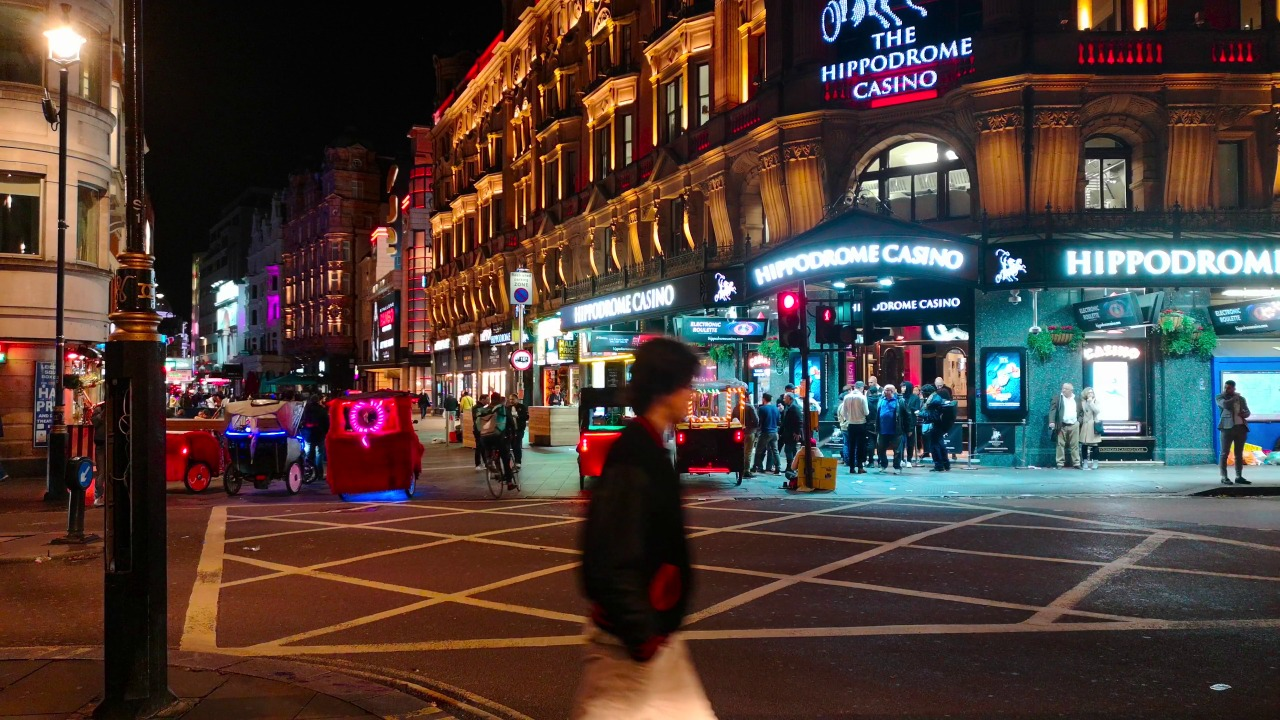person: (585, 332, 730, 719), (1211, 366, 1255, 484), (479, 384, 517, 492), (919, 383, 954, 479), (876, 377, 906, 482), (1048, 372, 1080, 470), (843, 377, 871, 476), (1076, 381, 1102, 484), (90, 391, 113, 506), (895, 380, 922, 477), (729, 388, 758, 476), (299, 389, 325, 481), (753, 392, 781, 473), (860, 381, 882, 473), (506, 392, 529, 476), (777, 394, 803, 458), (791, 434, 822, 484), (469, 391, 490, 464), (796, 389, 823, 418), (544, 386, 571, 409), (835, 394, 848, 434), (416, 386, 432, 417), (445, 393, 462, 420), (932, 376, 946, 399), (776, 382, 798, 396), (909, 381, 921, 404), (865, 372, 880, 389), (458, 390, 470, 410)
